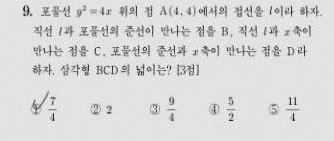choice: (29, 95, 44, 115)
not-choice: (88, 102, 101, 116), (267, 102, 280, 116), (207, 103, 220, 116), (148, 103, 160, 116)
